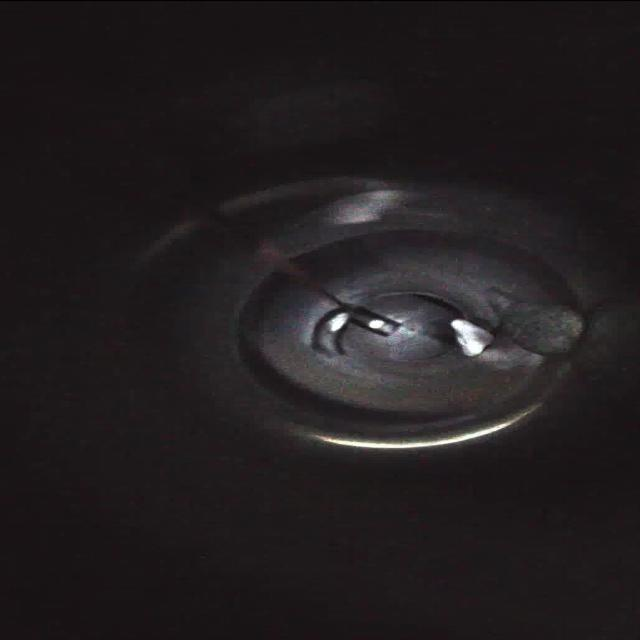impurity: (501, 295, 594, 359), (448, 315, 498, 359)
